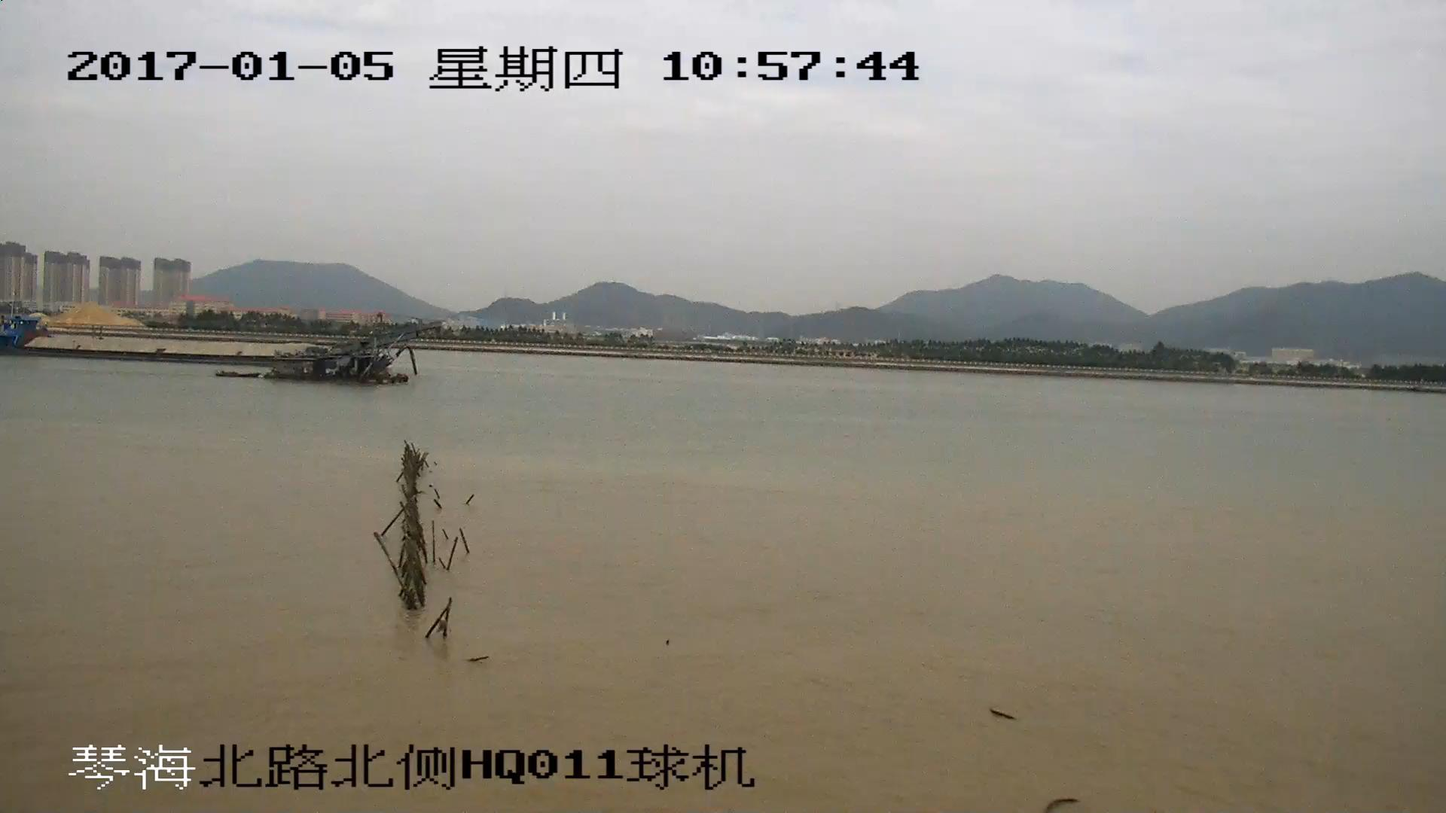ore carrier: (0, 321, 454, 383)
